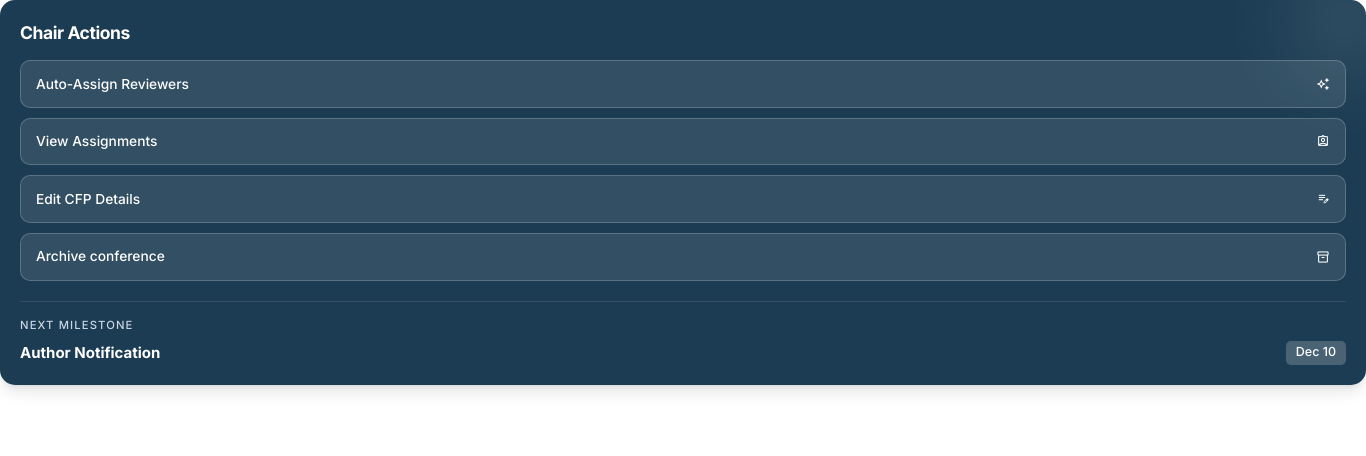
Test: ChairActionsPanel › should show success message after auto-assign completes
This screenshot has width=1366, height=456.
Click the text "Auto-Assign Reviewers": (112, 84) [36,74,189,94]
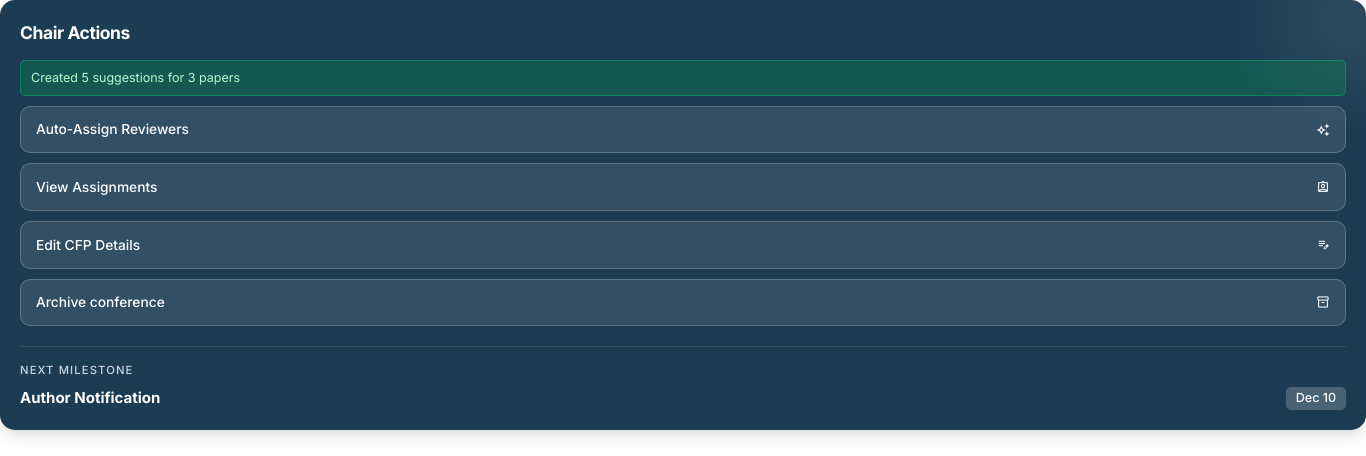
Check: the text "Created 5 suggestions for 3 papers" is shown, box [20,60,1346,96]
